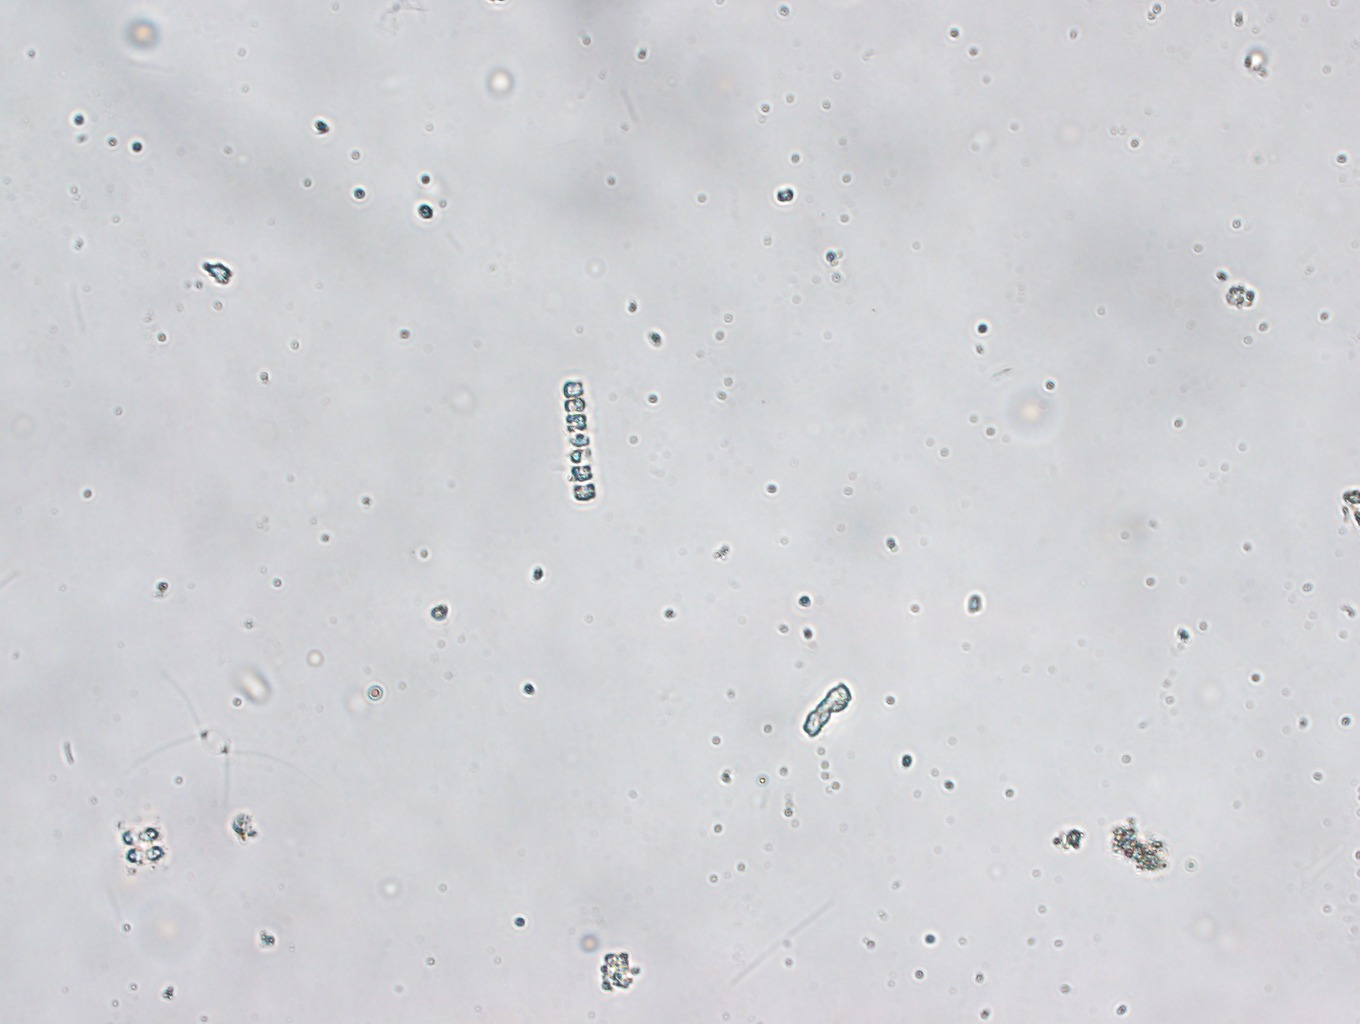skeletonema: (562, 379, 598, 503)
